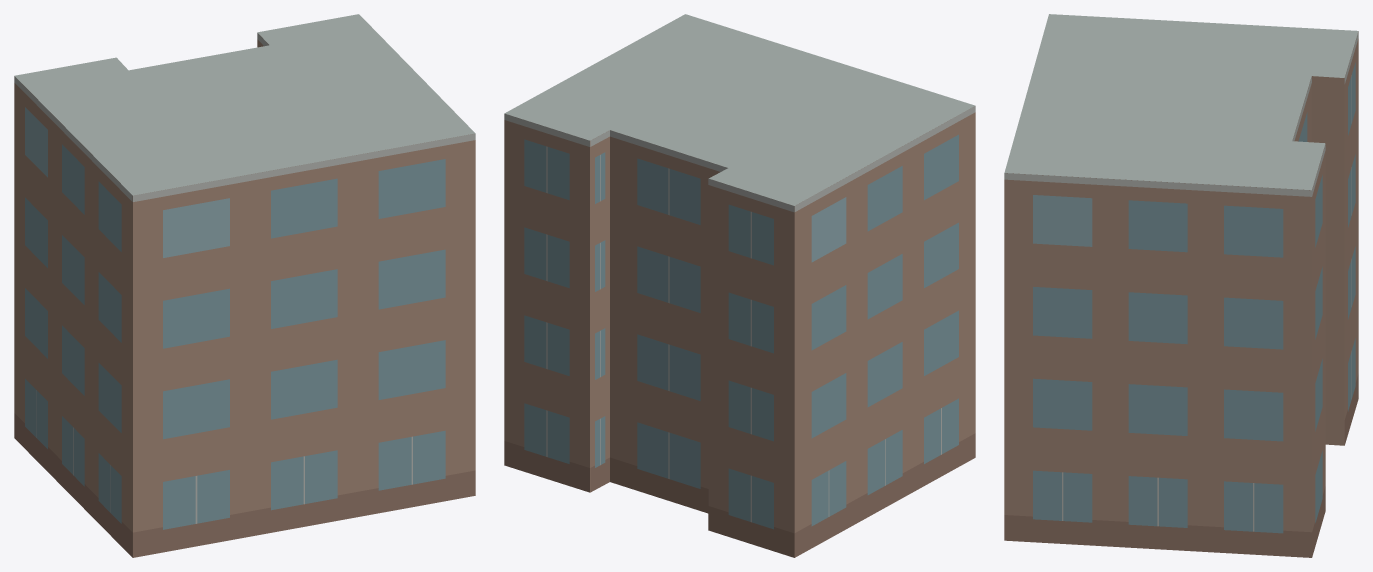
File: survey-upis-32952630.glb
3 renders of one model, left to right at view 1: azimuth 30°, elevation 25°; view 2: azimuth 150°, elevation 25°; view 3: azimuth 270°, elevation 25°, orthographic. The views are drawn at different scales.
Parts seen in each view (by area): view 1: survey-upis-32952630.tmp; view 2: survey-upis-32952630.tmp; view 3: survey-upis-32952630.tmp.
Part boxes in pixels (bbox=[...]): survey-upis-32952630.tmp: bbox=[14, 14, 475, 557]; survey-upis-32952630.tmp: bbox=[504, 14, 975, 557]; survey-upis-32952630.tmp: bbox=[1004, 14, 1358, 557].
Size of the model in its own units: 13.78 by 13.4 by 11.71.
